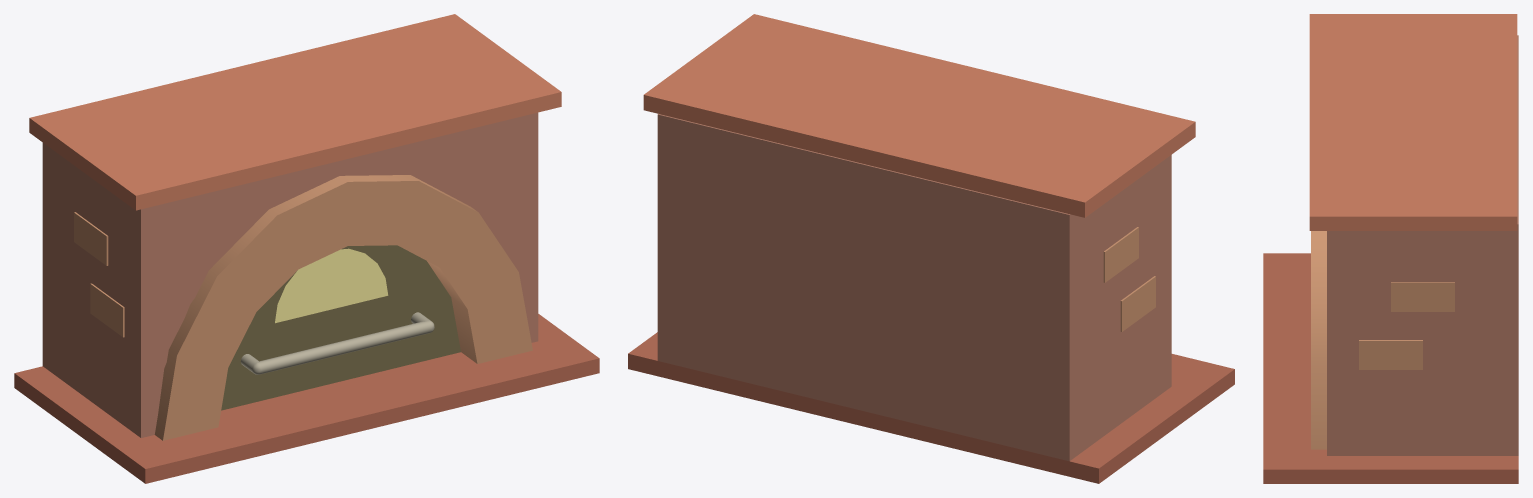
File: oven.obj
3 renders of one model, left to right at view 1: azimuth 30°, elevation 25°; view 2: azimuth 150°, elevation 25°; view 3: azimuth 270°, elevation 25°, orthographic. The views are drawn at different scales.
Visible parts, largest first — view 1: oven, door, glass; view 2: oven; view 3: oven.
Part boxes in pixels (x1,y1,x2,y2): oven: (14,14,599,483); door: (221,245,460,410); glass: (275,248,388,323); oven: (628,14,1234,483); oven: (1263,14,1518,483).
Size of the model in its own units: 1.6 by 0.9 by 0.8.
